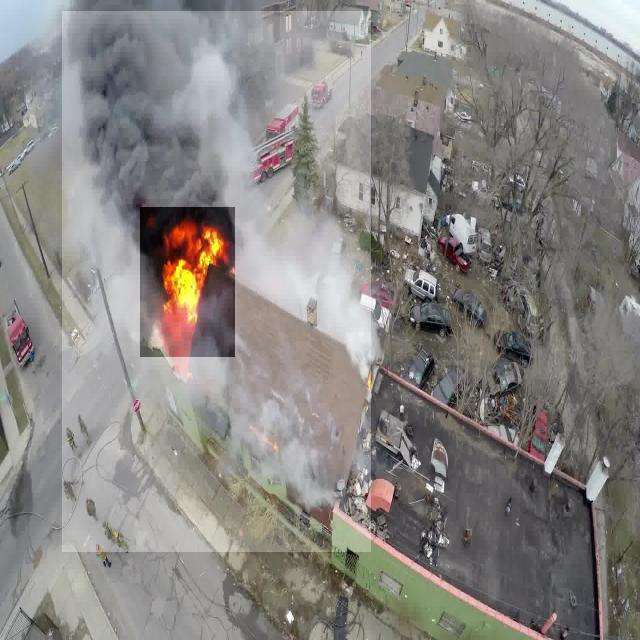Fire: (140, 207, 235, 357)
Smoke: (62, 11, 371, 552)
